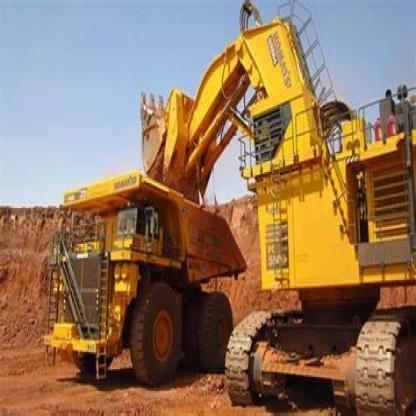dump_truck: (40, 164, 246, 396)
